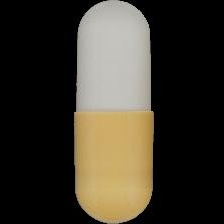52125-307: (0, 0, 224, 224)
